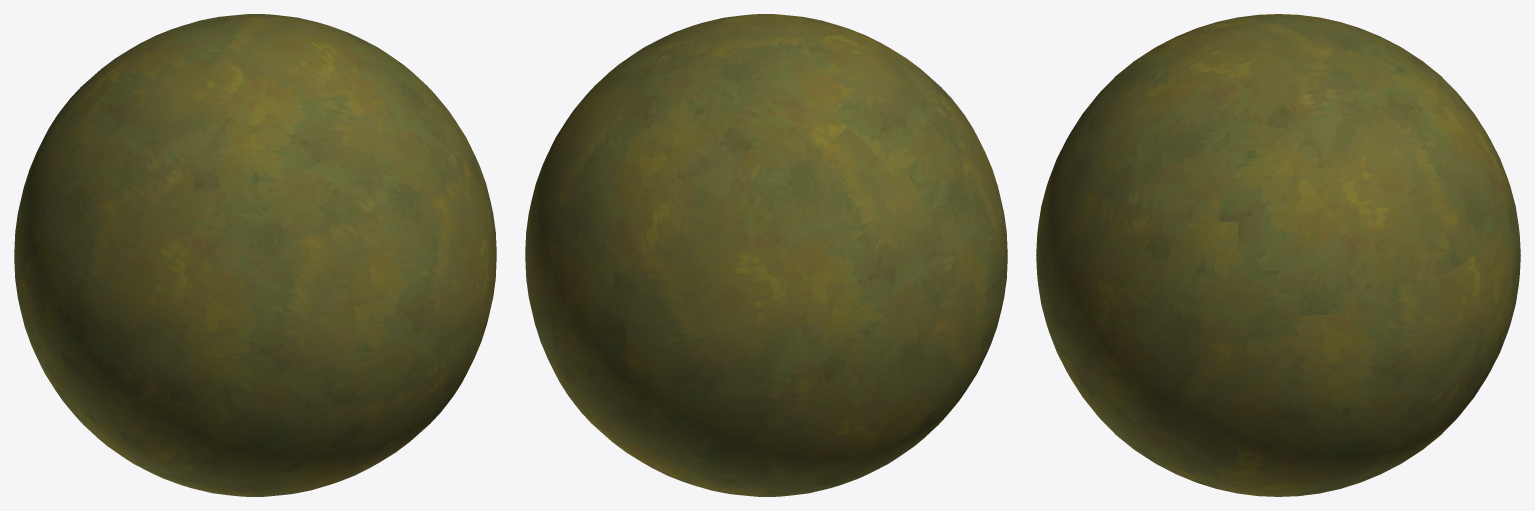
Rendered from planet_round.glb.
3 views of the same model, side by side, from view 1: azimuth 30°, elevation 25°; view 2: azimuth 150°, elevation 25°; view 3: azimuth 270°, elevation 25° (orthographic).
Parts seen in each view (by area): view 1: planet; view 2: planet; view 3: planet.
Part boxes in pixels (left/top/right/bottom): planet: left=14, top=14, right=496, bottom=496; planet: left=525, top=14, right=1007, bottom=496; planet: left=1036, top=14, right=1520, bottom=496.
Bounding box in the file's own units: 9.58 × 9.58 × 9.58.
1 material, 1 textured.
